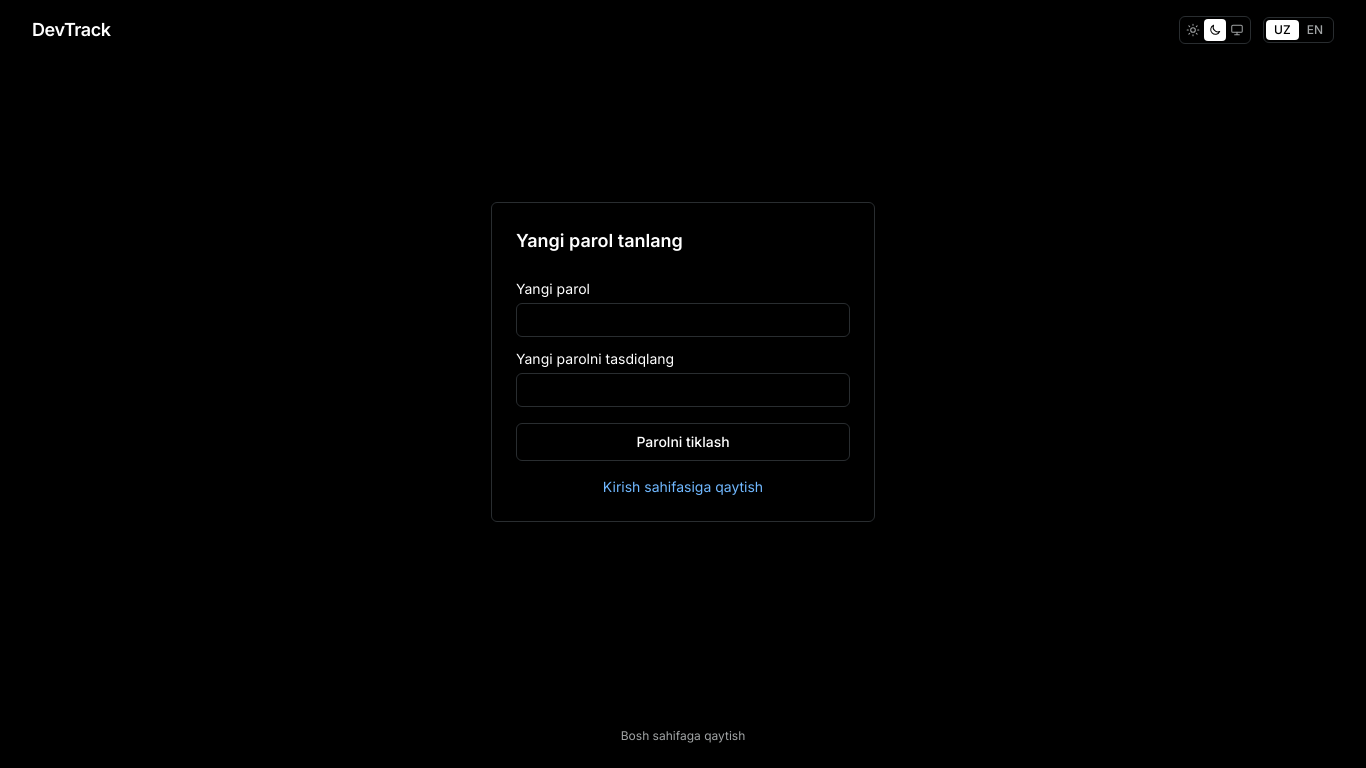
Test: ResetPasswordPage › sends uid and token from the link and confirms success
This screenshot has width=1366, height=768.
In the password field labelled "Yangi parol": x=683, y=320 [516,303,850,337], type "Sup3r-secret"
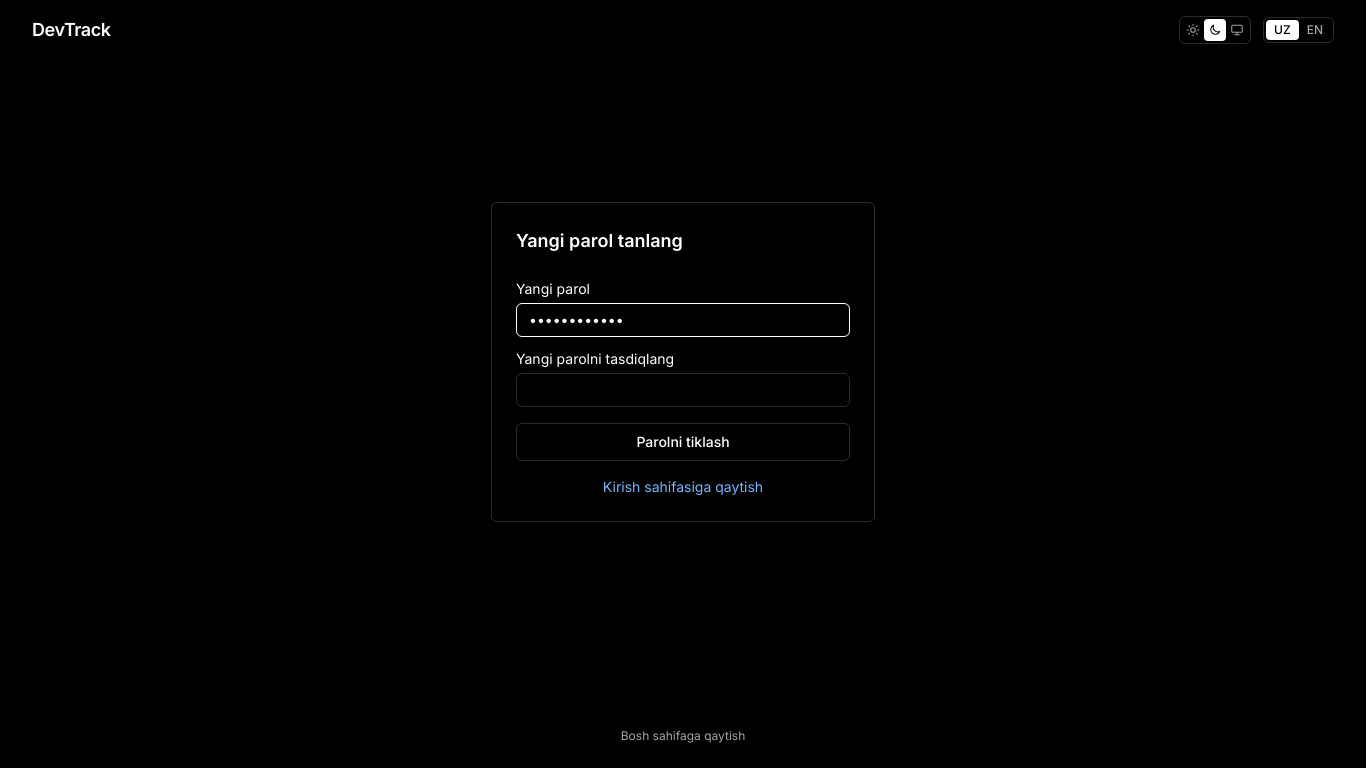
In the password field labelled "Yangi parolni tasdiqlang": x=683, y=390 [516,373,850,407], type "Sup3r-secret"
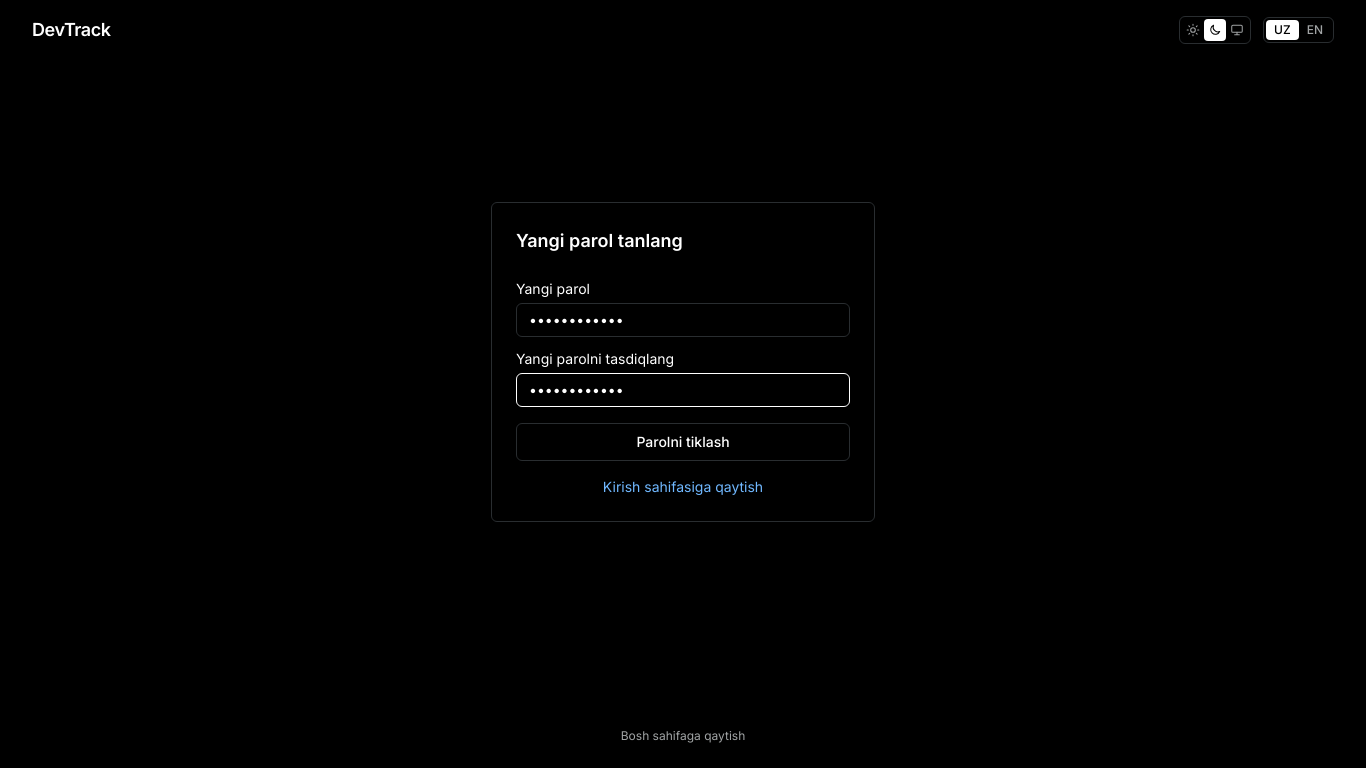
Click the button "Parolni tiklash": x=683, y=442 [516,423,850,461]
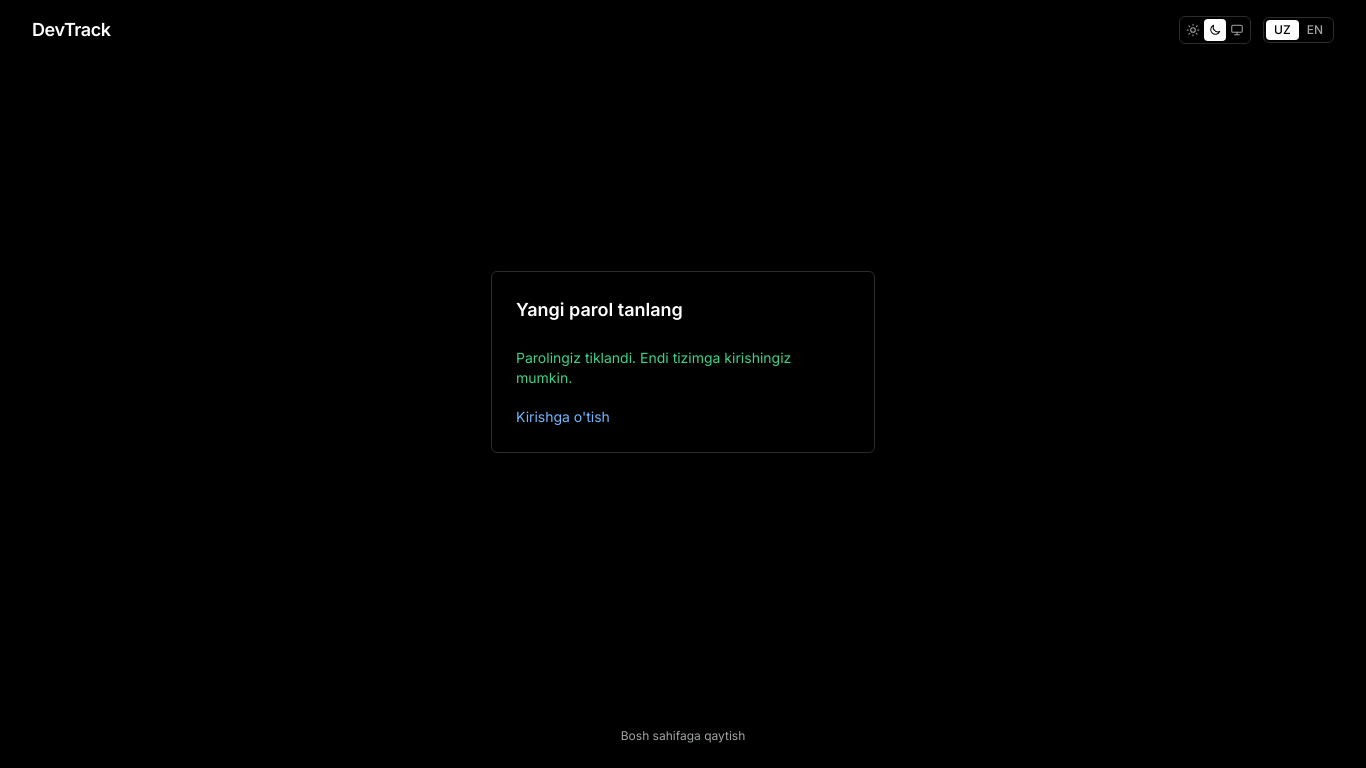
Check: the message shows "Parolingiz tiklandi", box [516,349,791,386]
